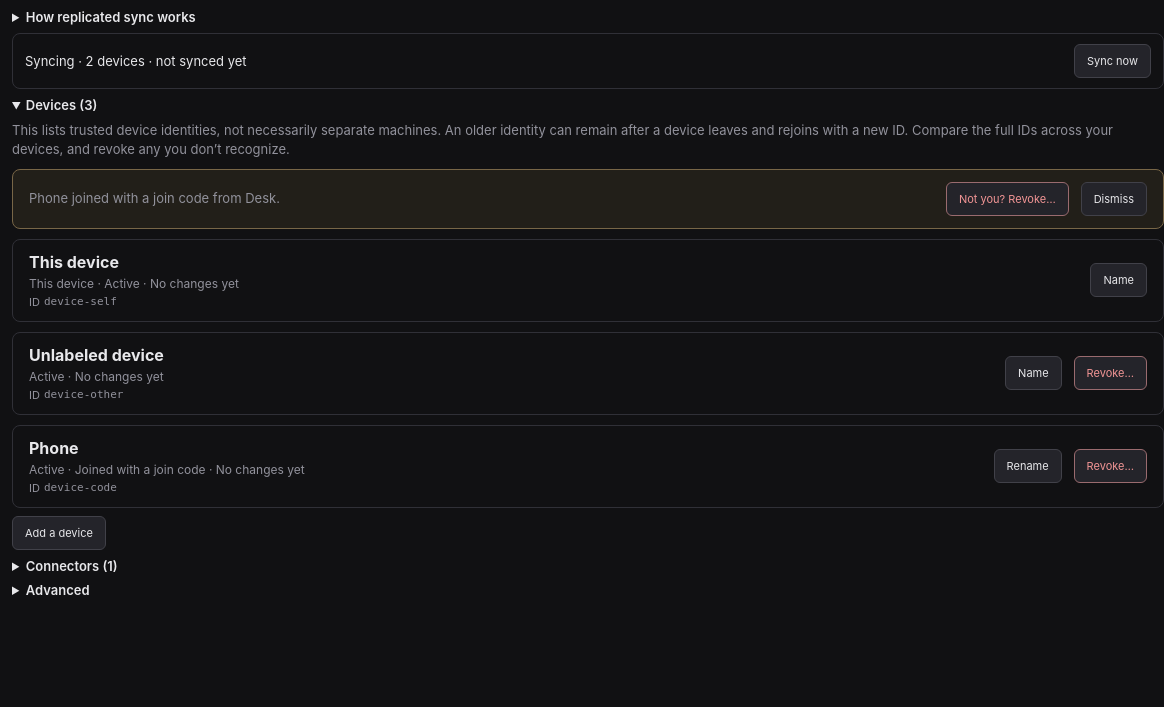
enrolled overview › shows join-code notices, how each device joined, and opens the add-a-device panel
Expected: the list named "Join code notices" shows "Phone joined with a join code from Desk.", [29,190,280,206]
Expected: the 4th list item shows "Joined with a join code", [29,462,305,477]
Click the button "Add a device": [59, 533] box [12,516,106,550]
(page scrolled)
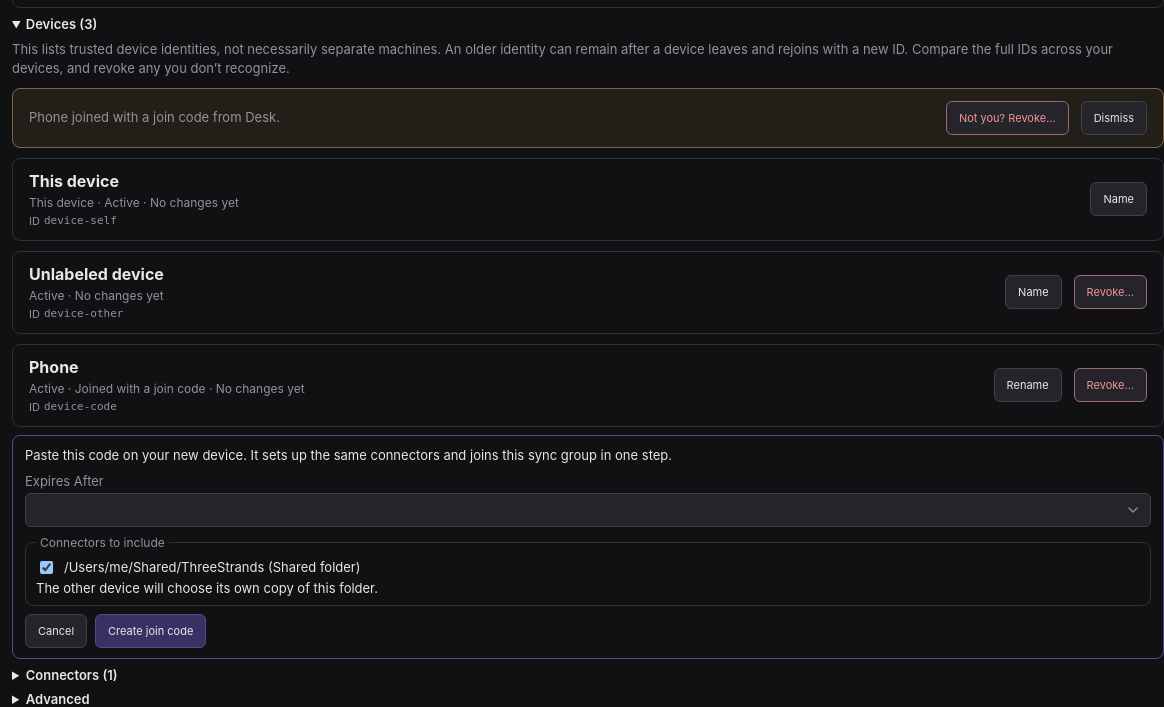
Expected: the element named "Add a device" is shown, [12,435,1163,659]
